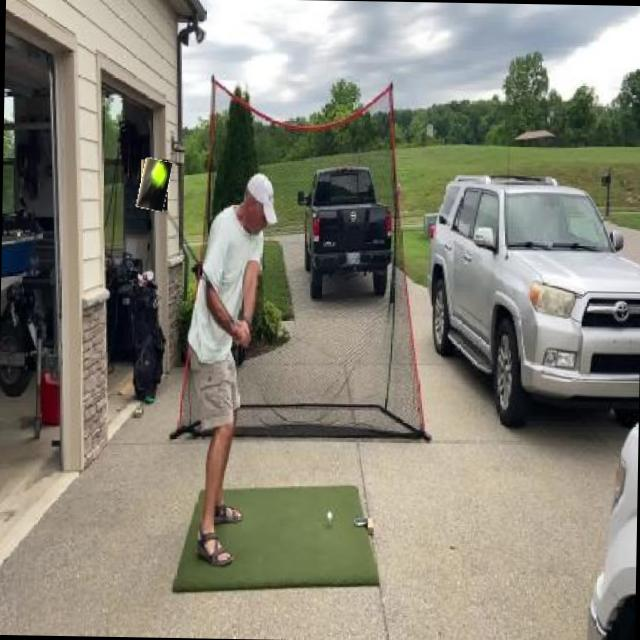club head: (138, 157, 170, 210)
